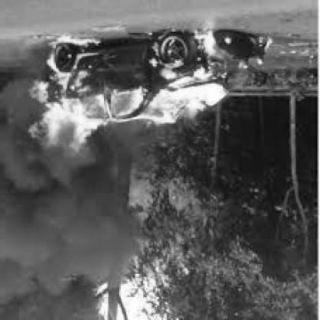Fire: (28, 80, 222, 148), (51, 33, 101, 50), (197, 30, 219, 62), (48, 51, 72, 80)
Smoke: (150, 58, 162, 72), (167, 60, 183, 68)
